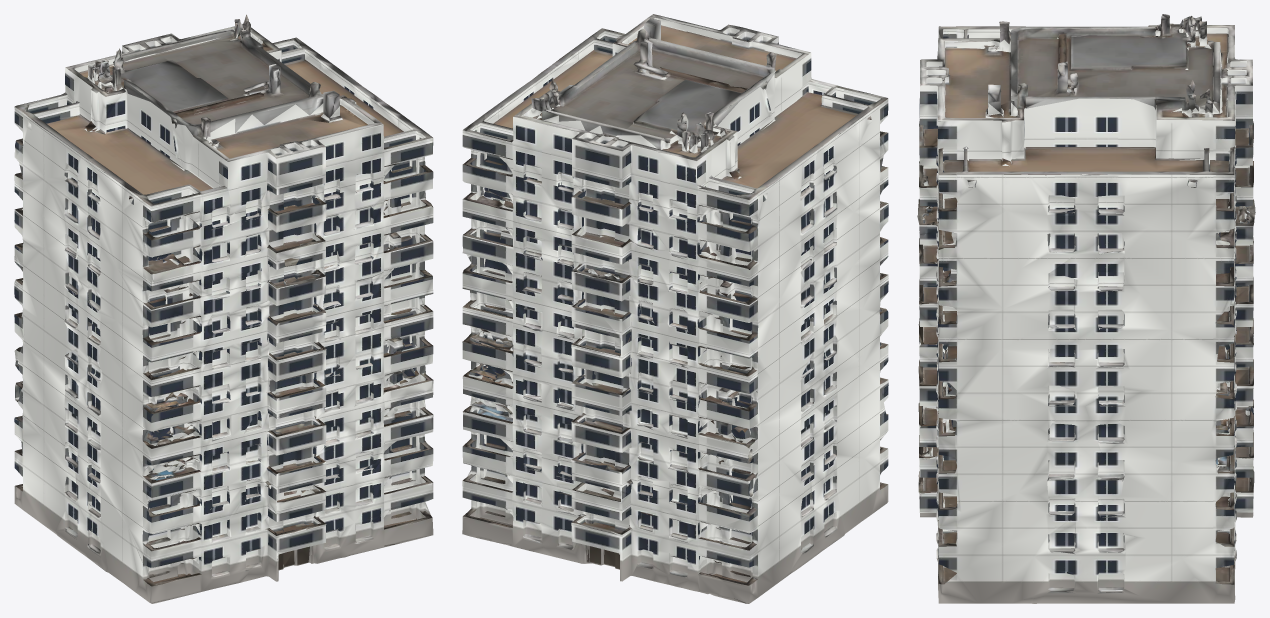
Rendered from ru-blocks.glb.
The picture shows the model from 3 angles, left to right: view 1: azimuth 30°, elevation 25°; view 2: azimuth 150°, elevation 25°; view 3: azimuth 270°, elevation 25°; orthographic projection. The views are drawn at different scales.
Parts seen in each view (by area): view 1: RuBlock; view 2: RuBlock; view 3: RuBlock.
Part boxes in pixels (x1=…): RuBlock: x1=14, y1=14, x2=433, y2=603; RuBlock: x1=462, y1=14, x2=888, y2=603; RuBlock: x1=917, y1=14, x2=1255, y2=603.
Bounding box in the file's own units: 1.32 × 1.98 × 1.25.
Materials: 2 (2 with a texture image).
